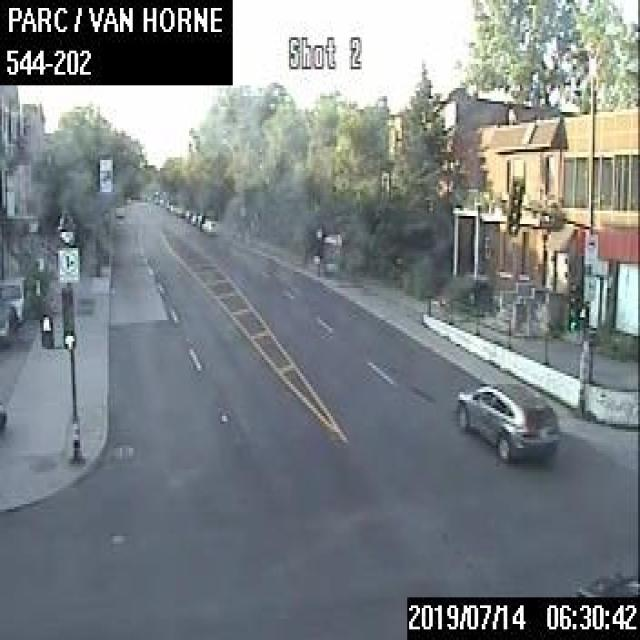vehicle: (455, 379, 562, 462), (0, 273, 27, 323), (0, 298, 20, 346), (201, 217, 217, 234), (195, 212, 210, 227), (0, 396, 5, 428), (189, 210, 198, 222), (183, 207, 191, 218)
